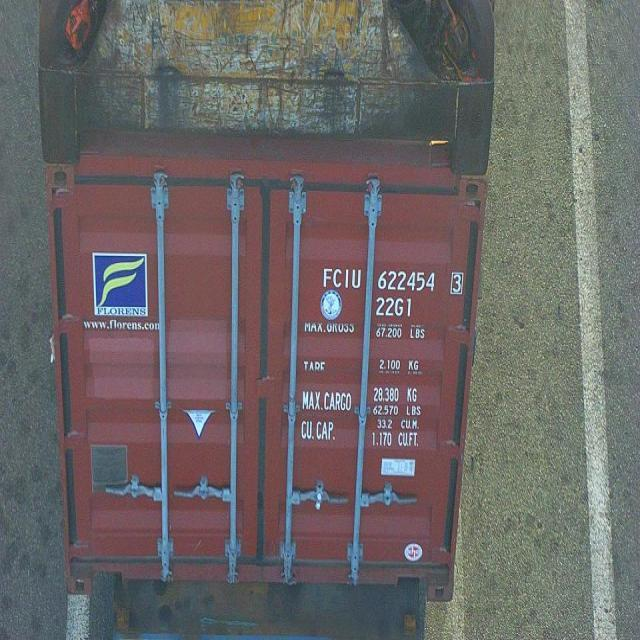ISO: (376, 298, 413, 322)
container_number: (322, 258, 466, 296)
